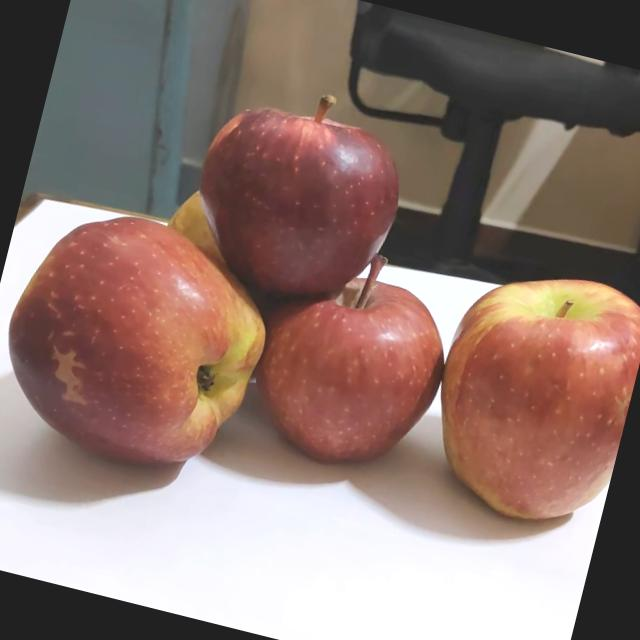apple: (0, 190, 287, 495), (406, 249, 640, 546), (166, 65, 424, 325), (232, 229, 468, 496), (151, 178, 259, 277)
